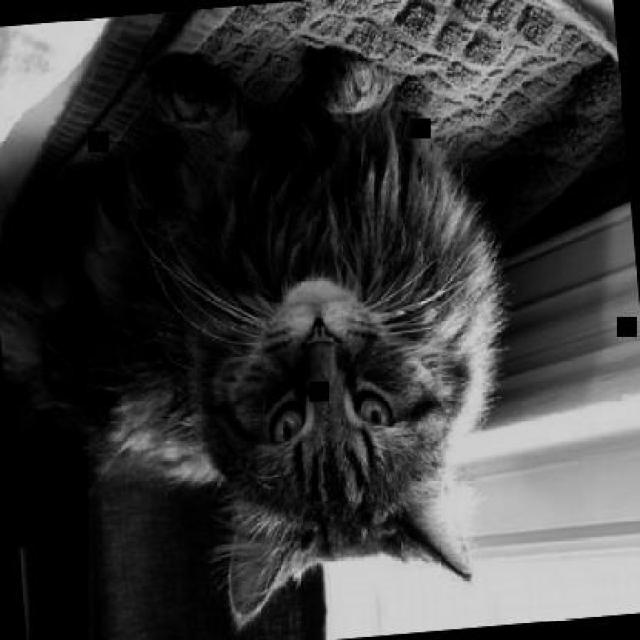cat: (0, 36, 526, 638)
